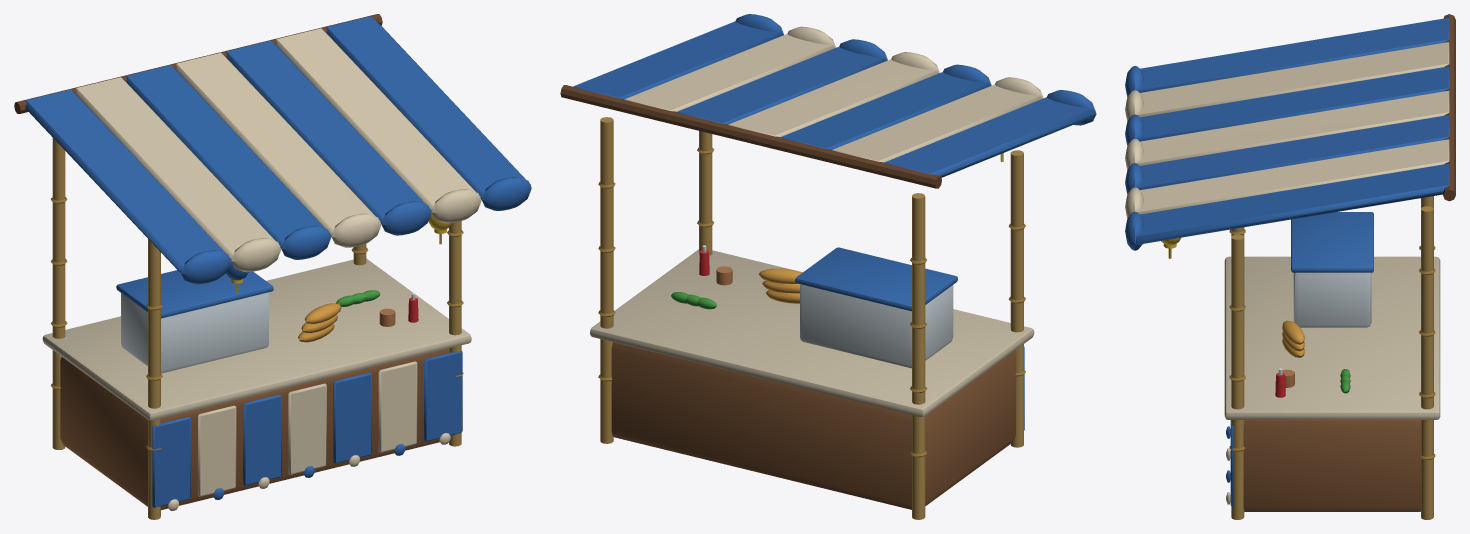
Rendered from pp-stall-chutam.glb.
3 renders of one model, left to right at view 1: azimuth 30°, elevation 25°; view 2: azimuth 150°, elevation 25°; view 3: azimuth 270°, elevation 25°, orthographic. The views are drawn at different scales.
Bounding box in the file's own units: 3.2 × 2.91 × 2.55.
